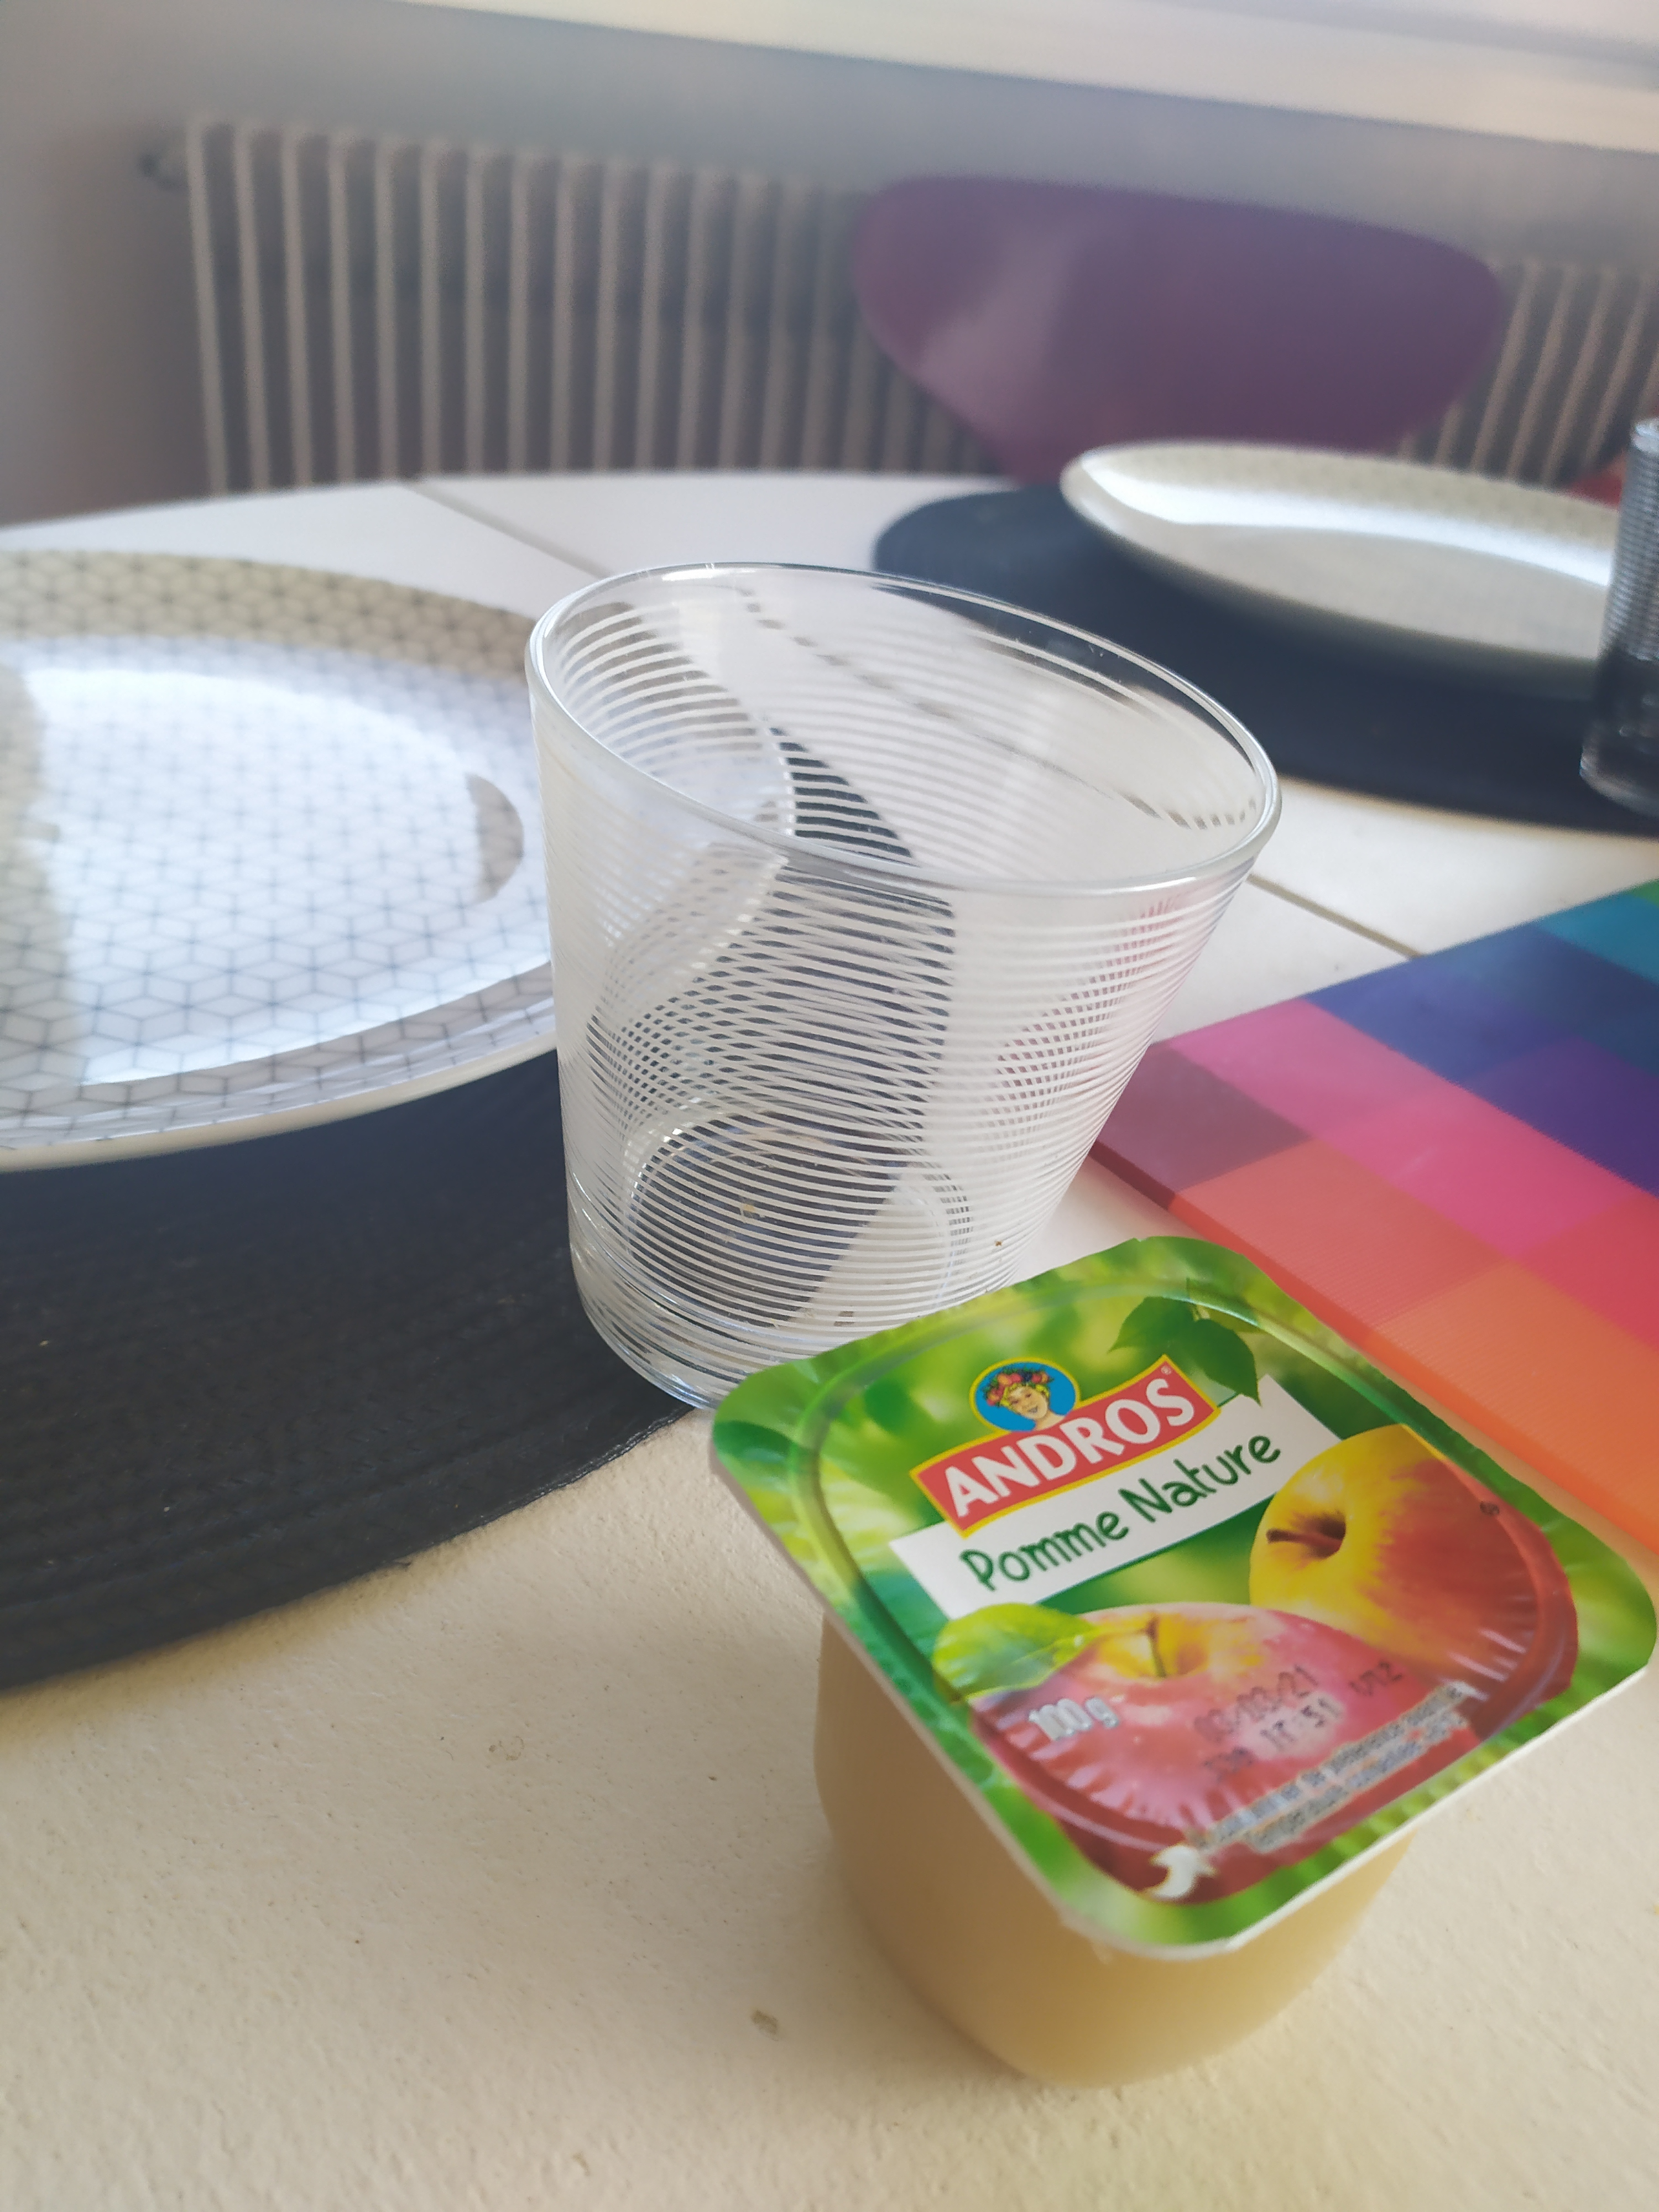compote: (714, 1230, 1659, 2107)
